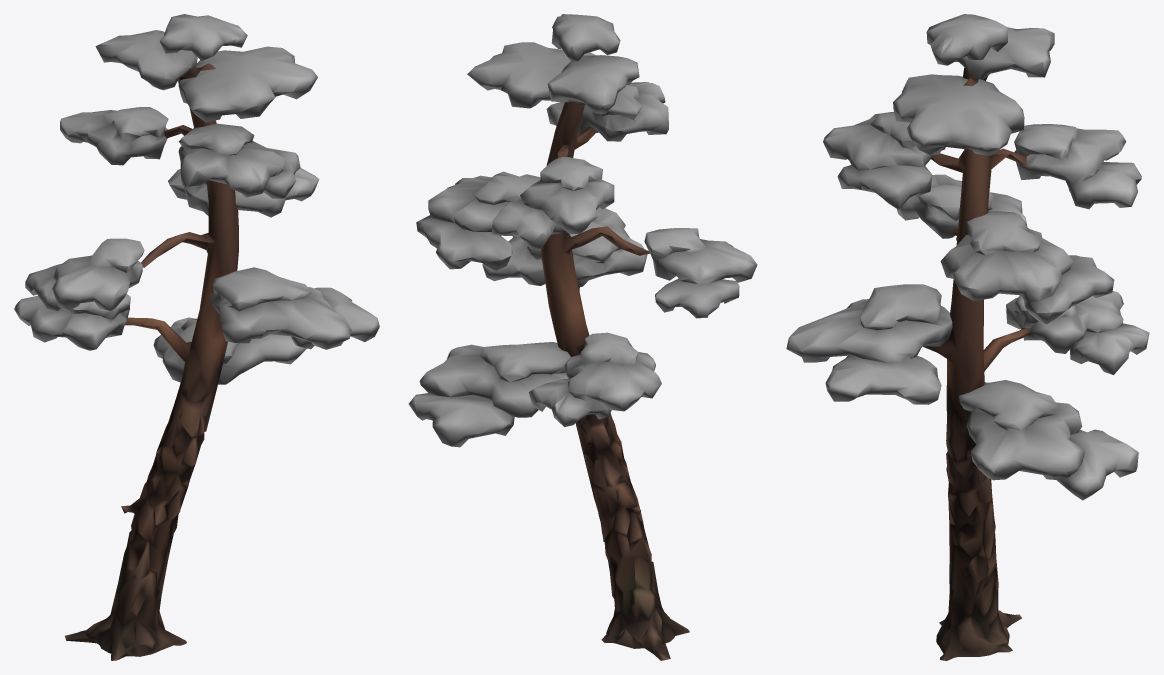
Rendered from pine_a.glb.
3 renders of one model, left to right at view 1: azimuth 30°, elevation 25°; view 2: azimuth 150°, elevation 25°; view 3: azimuth 270°, elevation 25°, orthographic. The views are drawn at different scales.
Visible parts, largest first — view 1: pine_a_LOD0; view 2: pine_a_LOD0; view 3: pine_a_LOD0.
Part boxes in pixels (left/top/right/bottom): pine_a_LOD0: left=14, top=14, right=379, bottom=660; pine_a_LOD0: left=408, top=14, right=757, bottom=660; pine_a_LOD0: left=786, top=14, right=1149, bottom=660.
Size of what is drawn, in the model's own units: 4.96 by 9.97 by 5.05.
